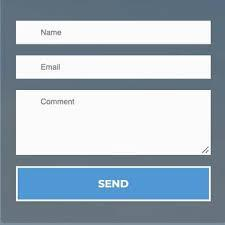input: (17, 167, 212, 203), (17, 21, 212, 45), (17, 56, 212, 80)
